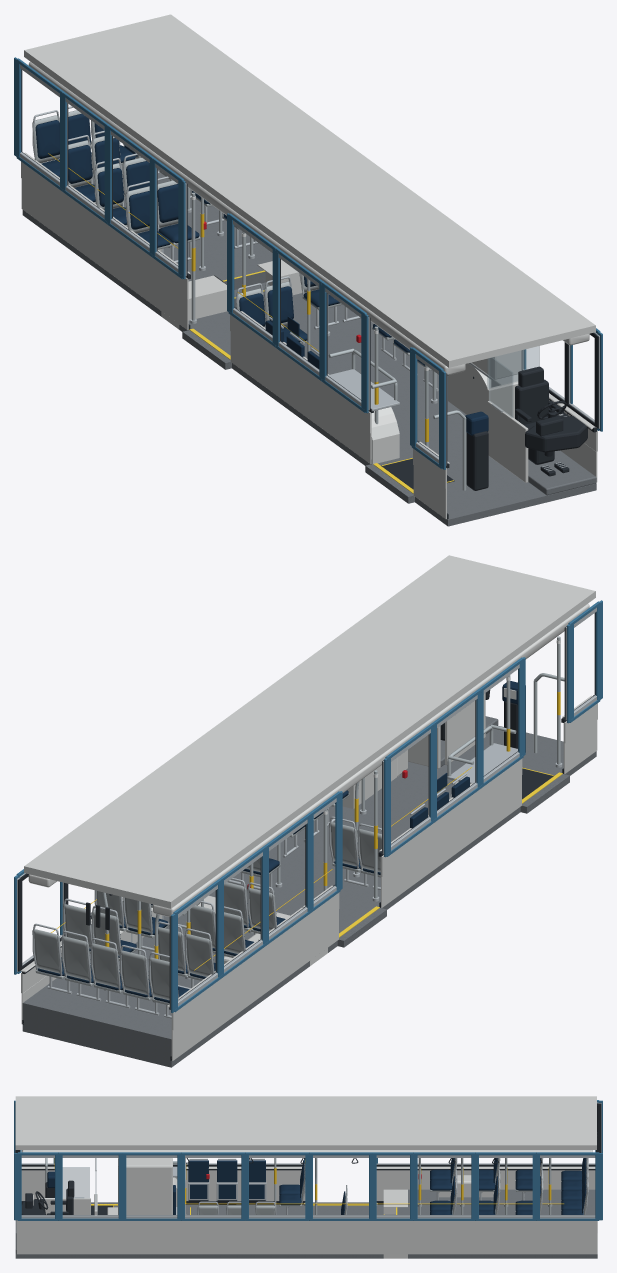
Rendered from city-bus-12m-interior-v2-closeup.lod1.glb.
The picture shows the model from 3 angles, top to bottom: view 1: azimuth 30°, elevation 25°; view 2: azimuth 150°, elevation 25°; view 3: azimuth 270°, elevation 25°; orthographic projection. The views are drawn at different scales.
Visible parts, largest first — view 1: interior-batch-panel, interior-batch-floor, interior-batch-window-outer-blue, interior-batch-seat, interior-batch-rubber, interior-batch-metal, interior-batch-rail, interior-batch-seat-shell, interior-batch-glass, interior-batch-yellow-grip; view 2: interior-batch-panel, interior-batch-floor, interior-batch-seat-shell, interior-batch-window-outer-blue, interior-batch-metal, interior-batch-rubber, interior-batch-rail, interior-batch-seat, interior-batch-yellow-grip; view 3: interior-batch-panel, interior-batch-window-outer-blue, interior-batch-seat, interior-batch-floor, interior-batch-metal, interior-batch-rubber, interior-batch-seat-shell, interior-batch-yellow-grip, interior-batch-rail, interior-batch-glass.
Part boxes in pixels (x1=…): interior-batch-panel: x1=21, y1=14, x2=597, y2=519; interior-batch-floor: x1=22, y1=165, x2=596, y2=526; interior-batch-window-outer-blue: x1=14, y1=57, x2=602, y2=469; interior-batch-seat: x1=35, y1=113, x2=488, y2=435; interior-batch-rubber: x1=21, y1=69, x2=598, y2=518; interior-batch-metal: x1=20, y1=64, x2=599, y2=471; interior-batch-rail: x1=137, y1=155, x2=466, y2=490; interior-batch-seat-shell: x1=32, y1=110, x2=431, y2=370; interior-batch-glass: x1=487, y1=346, x2=539, y2=417; interior-batch-yellow-grip: x1=48, y1=153, x2=428, y2=442; interior-batch-panel: x1=20, y1=555, x2=597, y2=1060; interior-batch-floor: x1=22, y1=716, x2=596, y2=1067; interior-batch-seat-shell: x1=32, y1=793, x2=381, y2=1004; interior-batch-window-outer-blue: x1=14, y1=600, x2=602, y2=1012; interior-batch-metal: x1=17, y1=607, x2=596, y2=1018; interior-batch-rubber: x1=18, y1=612, x2=595, y2=1060; interior-batch-rail: x1=102, y1=636, x2=564, y2=954; interior-batch-seat: x1=37, y1=681, x2=525, y2=1002; interior-batch-yellow-grip: x1=51, y1=692, x2=560, y2=970; interior-batch-panel: x1=15, y1=1096, x2=597, y2=1258; interior-batch-window-outer-blue: x1=14, y1=1100, x2=602, y2=1220; interior-batch-seat: x1=47, y1=1158, x2=586, y2=1214; interior-batch-floor: x1=15, y1=1189, x2=597, y2=1258; interior-batch-metal: x1=15, y1=1102, x2=601, y2=1218; interior-batch-rubber: x1=15, y1=1103, x2=601, y2=1215; interior-batch-seat-shell: x1=197, y1=1158, x2=588, y2=1214; interior-batch-yellow-grip: x1=54, y1=1158, x2=563, y2=1204; interior-batch-rail: x1=45, y1=1158, x2=551, y2=1214; interior-batch-glass: x1=63, y1=1167, x2=96, y2=1209.
Size of the model in its own units: 2.48 by 2.44 by 11.53.
Materials: 13 (1 with a texture image).
